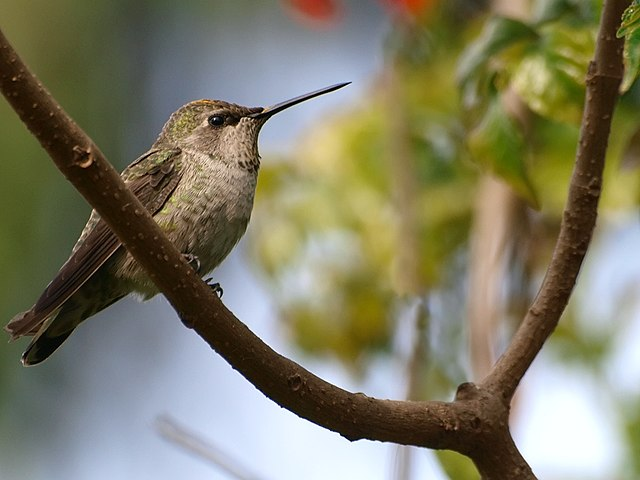calypte anna: (6, 82, 353, 371)
